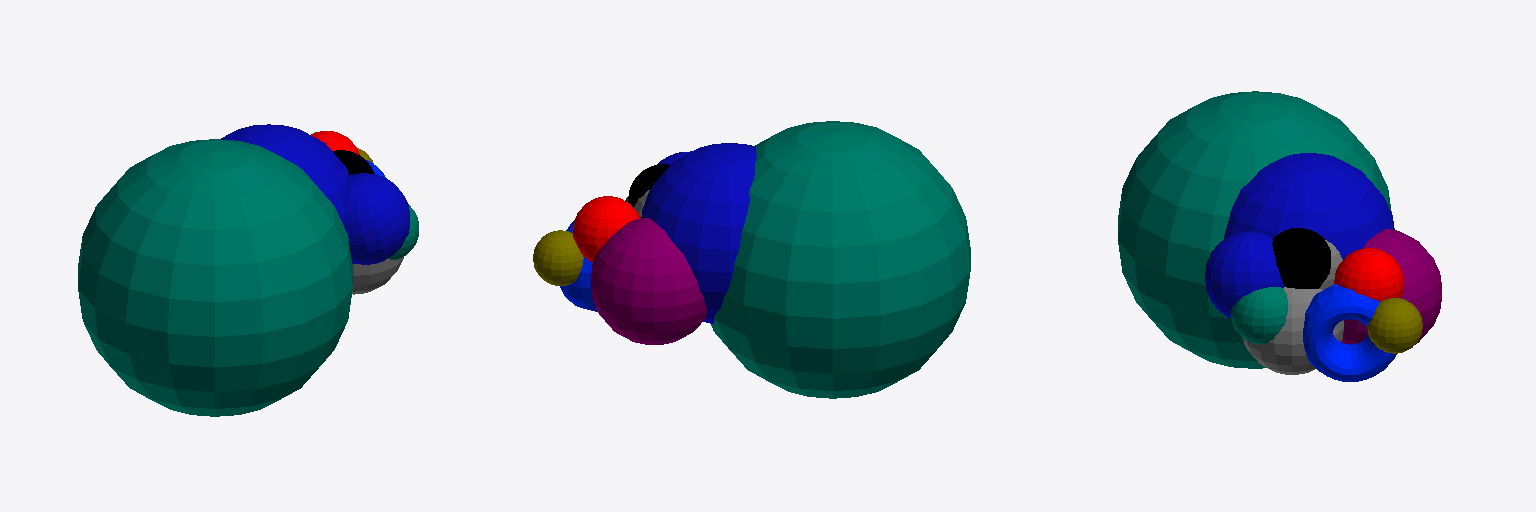
Rendered from Kugle.obj.
3 views of the same model, side by side, from view 1: azimuth 30°, elevation 25°; view 2: azimuth 150°, elevation 25°; view 3: azimuth 270°, elevation 25° (orthographic).
Parts seen in each view (by area): view 1: nurbsToPoly11, nurbsToPoly7, nurbsToPoly8, nurbsToPoly12, nurbsToPoly9, nurbsToPoly10, nurbsToPoly5; view 2: nurbsToPoly11, nurbsToPoly8, nurbsToPoly4, nurbsToPoly9, nurbsToPoly1, nurbsToPoly2, nurbsToPoly10; view 3: nurbsToPoly11, nurbsToPoly8, nurbsToPoly2, nurbsToPoly7, nurbsToPoly4, nurbsToPoly12, nurbsToPoly10, nurbsToPoly9, nurbsToPoly5, nurbsToPoly1.
Part boxes in pixels (x1,y1,x2,y2): nurbsToPoly11: (78, 139, 352, 416); nurbsToPoly7: (345, 173, 409, 264); nurbsToPoly8: (221, 124, 349, 227); nurbsToPoly12: (352, 257, 403, 294); nurbsToPoly9: (311, 131, 360, 155); nurbsToPoly10: (333, 150, 374, 174); nurbsToPoly5: (389, 205, 418, 259); nurbsToPoly11: (711, 121, 970, 398); nurbsToPoly8: (641, 143, 756, 323); nurbsToPoly4: (591, 218, 707, 344); nurbsToPoly9: (573, 196, 639, 262); nurbsToPoly1: (533, 230, 583, 285); nurbsToPoly2: (560, 221, 597, 311); nurbsToPoly10: (628, 164, 669, 207); nurbsToPoly11: (1118, 91, 1391, 368); nurbsToPoly8: (1224, 153, 1394, 259); nurbsToPoly2: (1303, 284, 1396, 381); nurbsToPoly7: (1205, 231, 1283, 318); nurbsToPoly4: (1341, 229, 1441, 353); nurbsToPoly12: (1242, 287, 1343, 374); nurbsToPoly10: (1272, 228, 1330, 288); nurbsToPoly9: (1334, 248, 1403, 301); nurbsToPoly5: (1231, 287, 1287, 344); nurbsToPoly1: (1367, 298, 1422, 353).
Size of the model in its own units: 44.35 by 30.85 by 35.82.